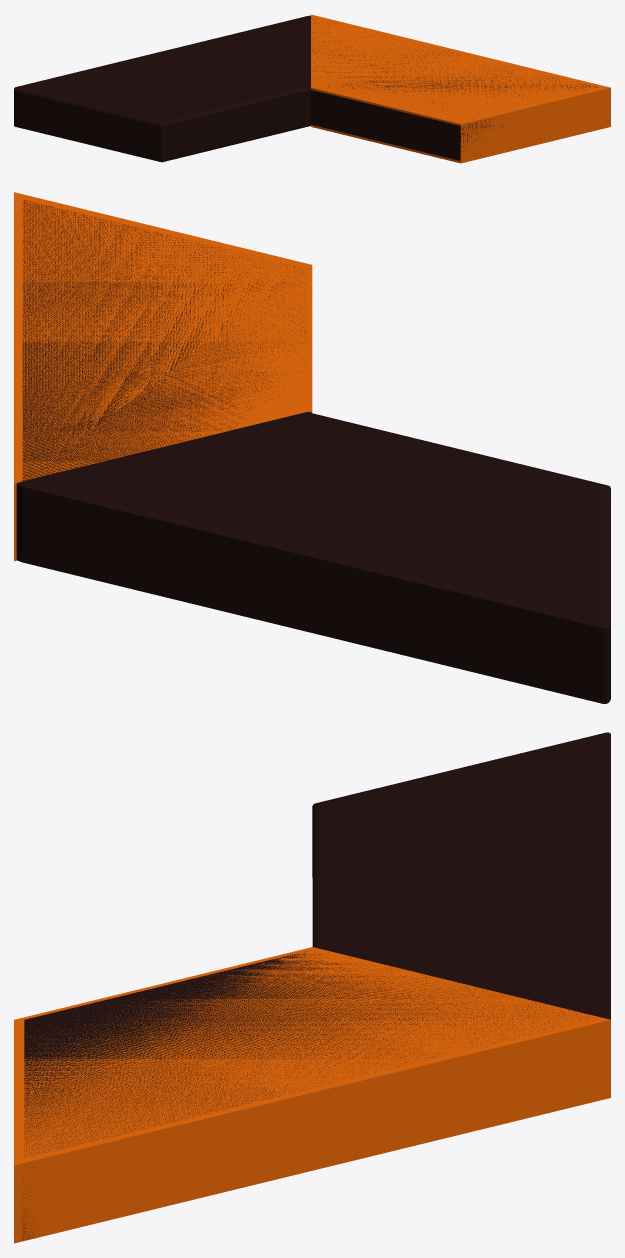
The model's file is pieceVB.glb.
3 renders of one model, top to bottom at view 1: azimuth 30°, elevation 25°; view 2: azimuth 150°, elevation 25°; view 3: azimuth 270°, elevation 25°, orthographic. The views are drawn at different scales.
Visible parts, largest first — view 1: CubeVB-1, CubeVB-2-noimp; view 2: CubeVB-1, CubeVB-2-noimp; view 3: CubeVB-2-noimp, CubeVB-1.
Part boxes in pixels (x1,y1,x2,y2): CubeVB-1: (14,15,597,162); CubeVB-2-noimp: (311,14,610,163); CubeVB-1: (16,200,610,703); CubeVB-2-noimp: (14,192,312,561); CubeVB-2-noimp: (14,947,610,1243); CubeVB-1: (22,732,610,1239).
Size of what is drawn, in the model's own units: 2.99 by 0.25 by 1.73.
